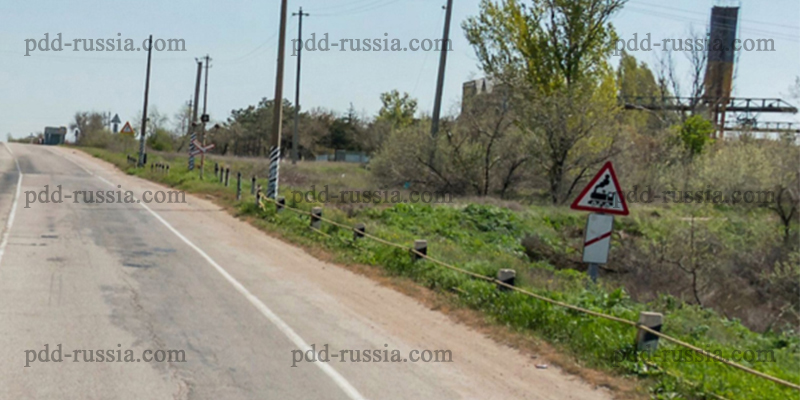1.2: (570, 156, 627, 211)
1.4.3: (575, 208, 615, 268)
